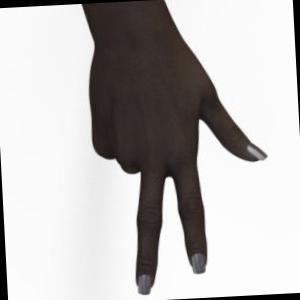scissors: (82, 0, 266, 294)
